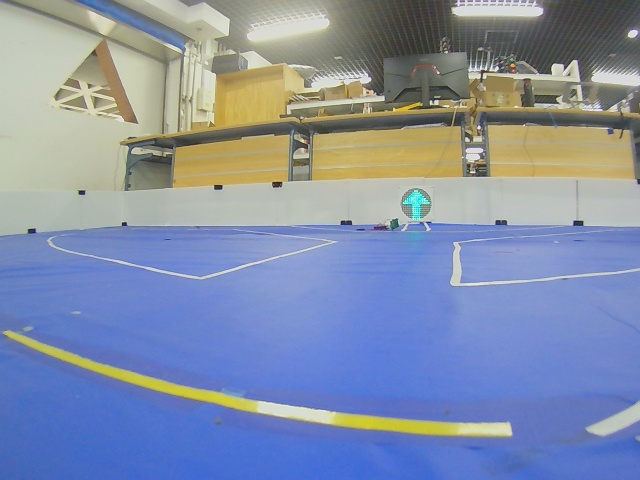straight_green: (401, 188, 432, 221)
